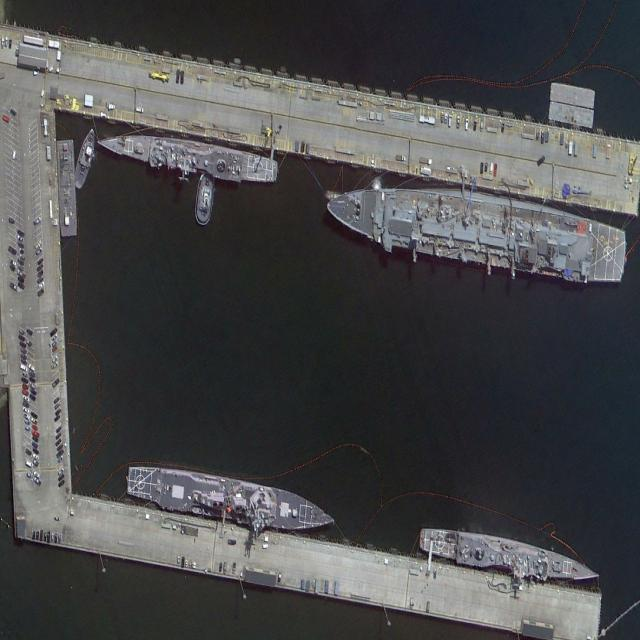Commander: (324, 162, 629, 291)
Destroyer: (126, 460, 337, 537)
Frigate: (417, 519, 600, 594), (95, 124, 278, 187)
Hovercraft: (193, 172, 214, 226)
Other Warship: (70, 124, 100, 191)
